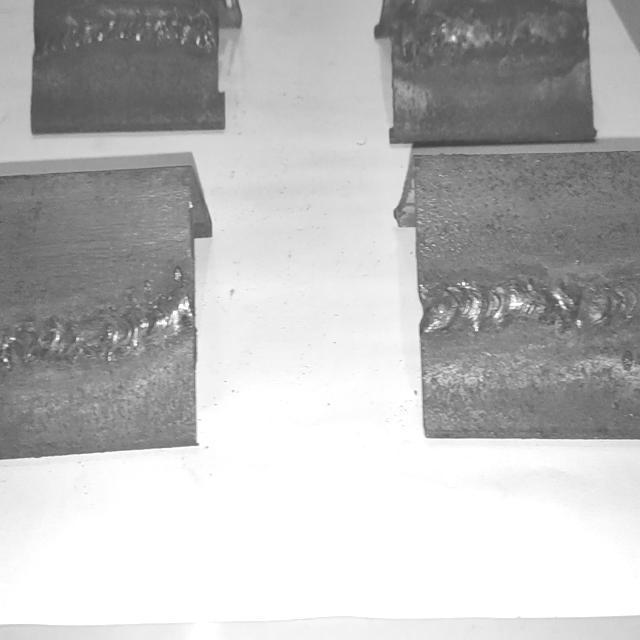Defect: (37, 0, 213, 64), (0, 308, 84, 373), (398, 0, 452, 68), (539, 266, 583, 344)
Welding Line: (0, 288, 194, 363), (421, 272, 640, 336), (395, 0, 587, 62), (35, 5, 218, 60)
Workpiece: (412, 151, 640, 443), (0, 162, 199, 462), (388, 0, 598, 150), (29, 0, 231, 134)
